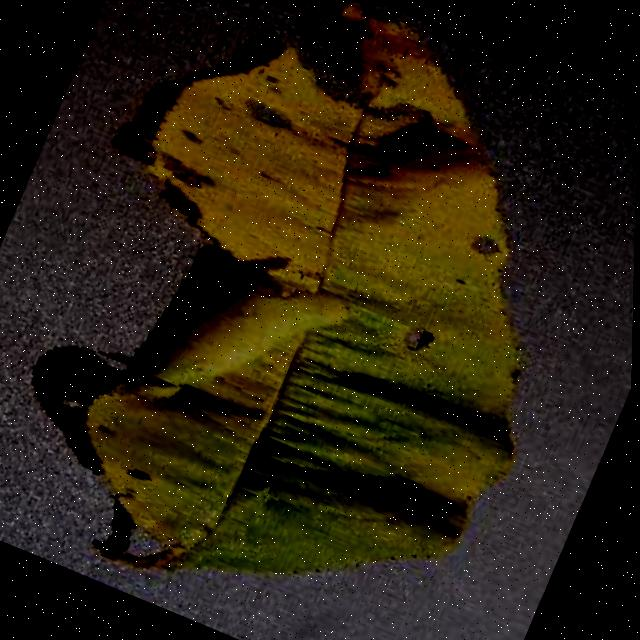Bacterial_spot: (120, 1, 505, 294)
